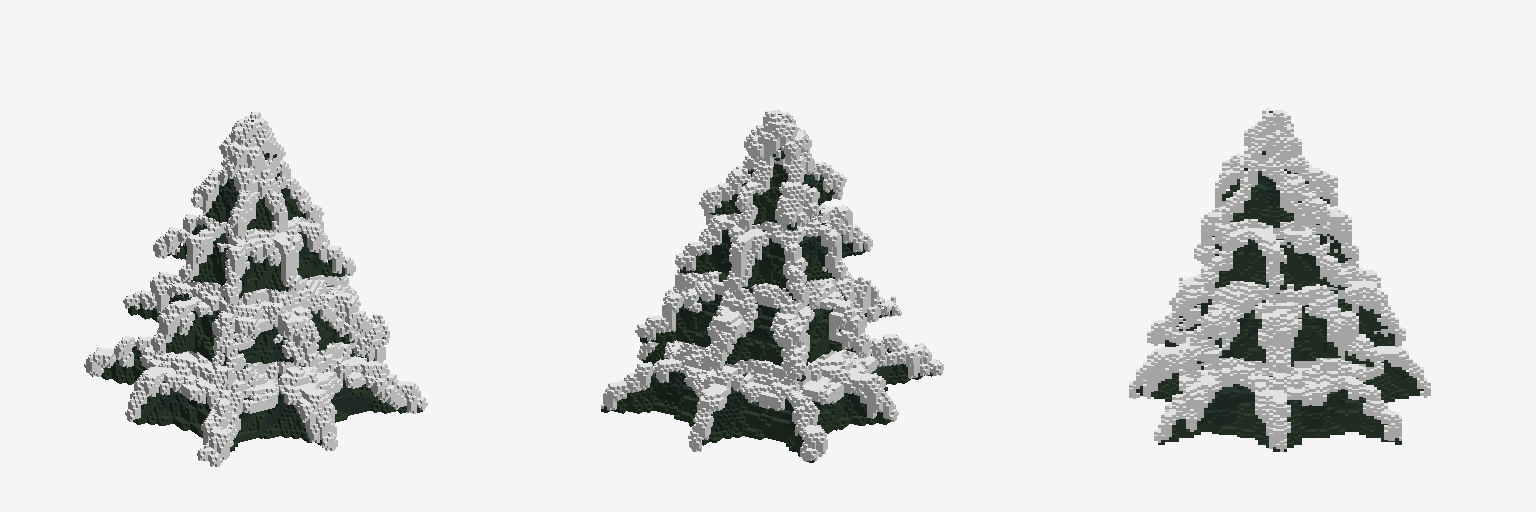
3 renders of one model, left to right at view 1: azimuth 30°, elevation 25°; view 2: azimuth 150°, elevation 25°; view 3: azimuth 270°, elevation 25°, orthographic.
Parts seen in each view (by area): view 1: object 1; view 2: object 1; view 3: object 1.
Part boxes in pixels (x1,y1,x2,y2): object 1: (84,111,427,466); object 1: (601,109,943,462); object 1: (1129,108,1430,451).
Size of the model in its own units: 8.2 by 8.8 by 8.4.
Materials: 1 (1 with a texture image).